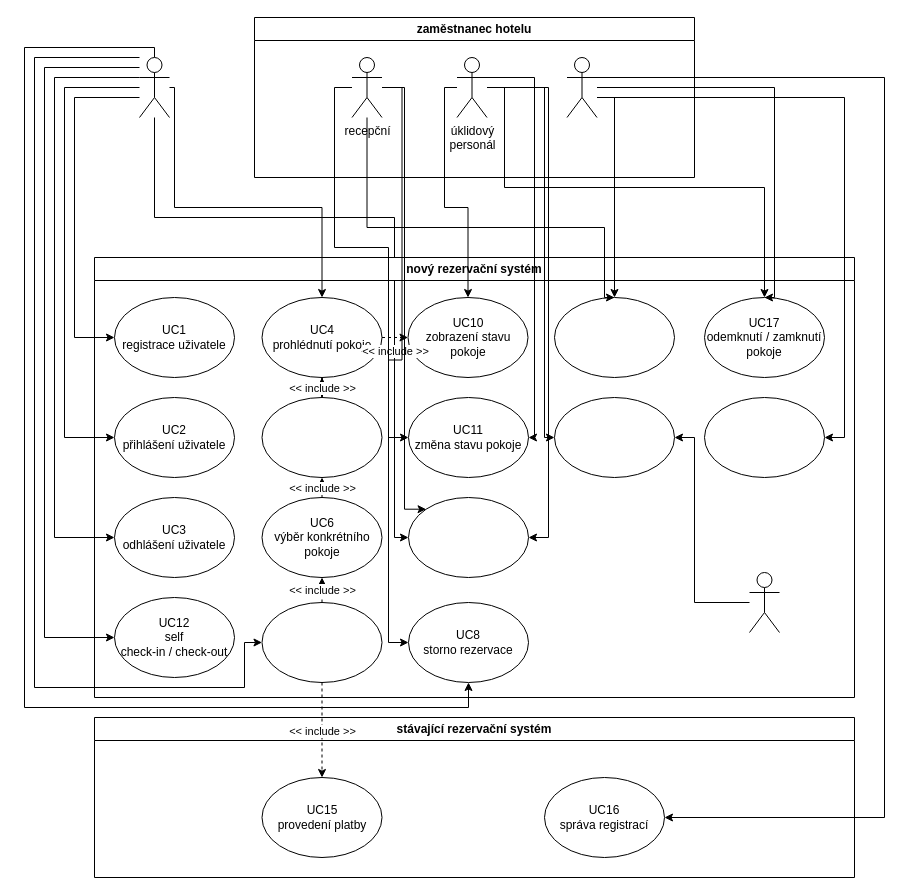
This 910x895 diagram has some shape labels left out. Each missing label, with the centre of its shape:
"<< system >> rezervační systém" goes at point (764, 602).
"host" goes at point (154, 87).
"správce systému" goes at point (581, 87).
"UC13 změna jazyka / měny" goes at point (468, 537).
"UC14 zařízení úklidu pokoje" goes at point (614, 437).
"UC18 správa systému" goes at point (764, 437).
"UC5 výběr typu pokoje" goes at point (321, 437).
"UC7 rezervace pokoje" goes at point (321, 642).
"UC9 správa rezervací" goes at point (614, 337).
